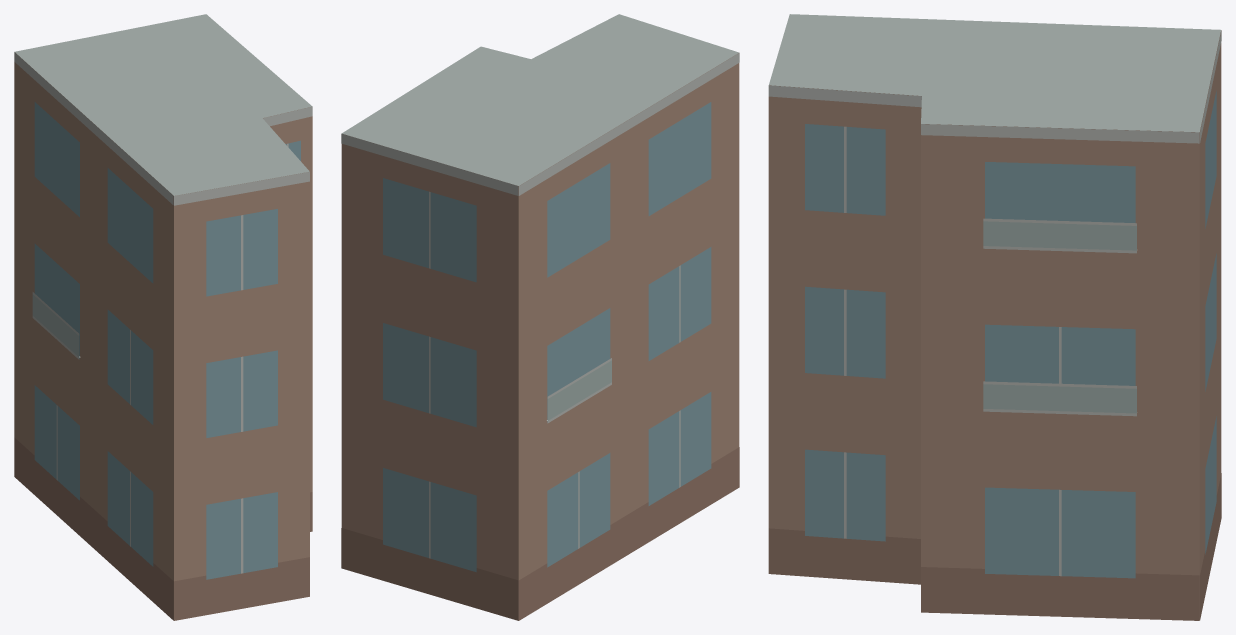
The model's file is survey-upis-32462498.glb.
3 renders of one model, left to right at view 1: azimuth 30°, elevation 25°; view 2: azimuth 150°, elevation 25°; view 3: azimuth 270°, elevation 25°, orthographic. The views are drawn at different scales.
Visible parts, largest first — view 1: survey-upis-32462498.tmp; view 2: survey-upis-32462498.tmp; view 3: survey-upis-32462498.tmp.
Part boxes in pixels (bbox=[...]): survey-upis-32462498.tmp: bbox=[14, 14, 312, 620]; survey-upis-32462498.tmp: bbox=[341, 14, 739, 620]; survey-upis-32462498.tmp: bbox=[768, 14, 1221, 620].
Size of the model in its own units: 5.48 by 10.55 by 8.87.
